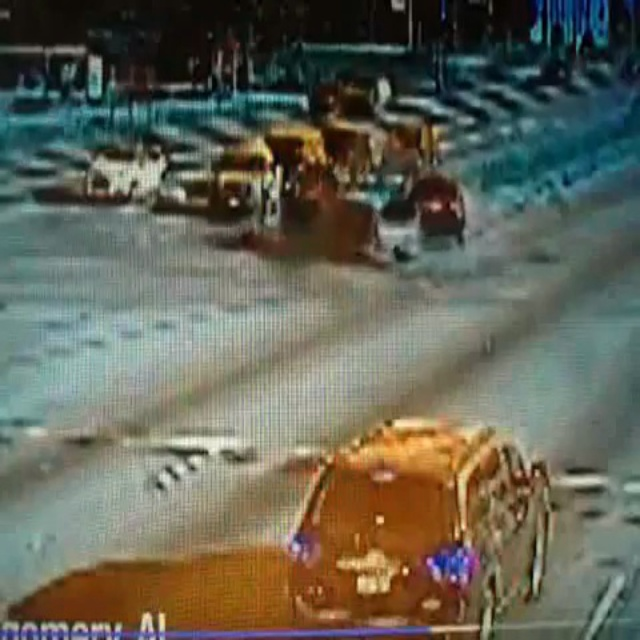acc: (269, 166, 434, 280)
